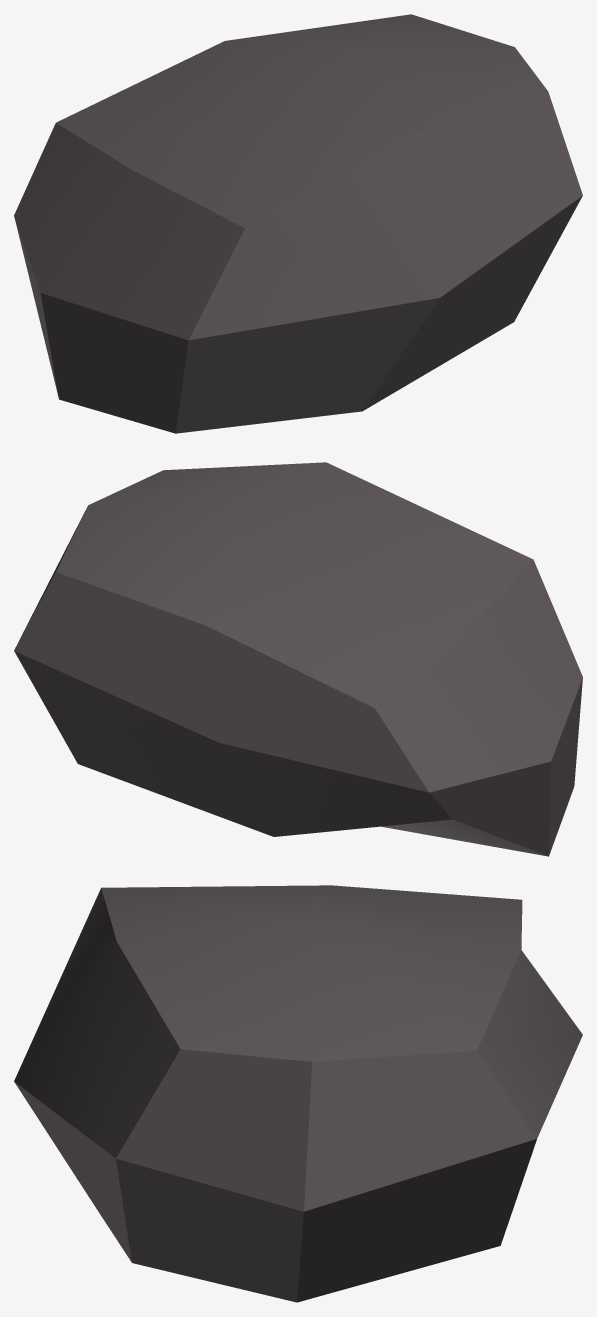
File: PedraPequena1.fbx
3 views of the same model, one above another, from view 1: azimuth 30°, elevation 25°; view 2: azimuth 150°, elevation 25°; view 3: azimuth 270°, elevation 25° (orthographic). The views are drawn at different scales.
Visible parts, largest first — view 1: PedraMenor1; view 2: PedraMenor1; view 3: PedraMenor1.
Boxes of the visible parts, x1=… form: PedraMenor1: x1=14, y1=14, x2=582, y2=433; PedraMenor1: x1=14, y1=462, x2=582, y2=856; PedraMenor1: x1=14, y1=885, x2=582, y2=1302.
Bounding box in the file's own units: 0.1073 × 0.0593 × 0.0851.
